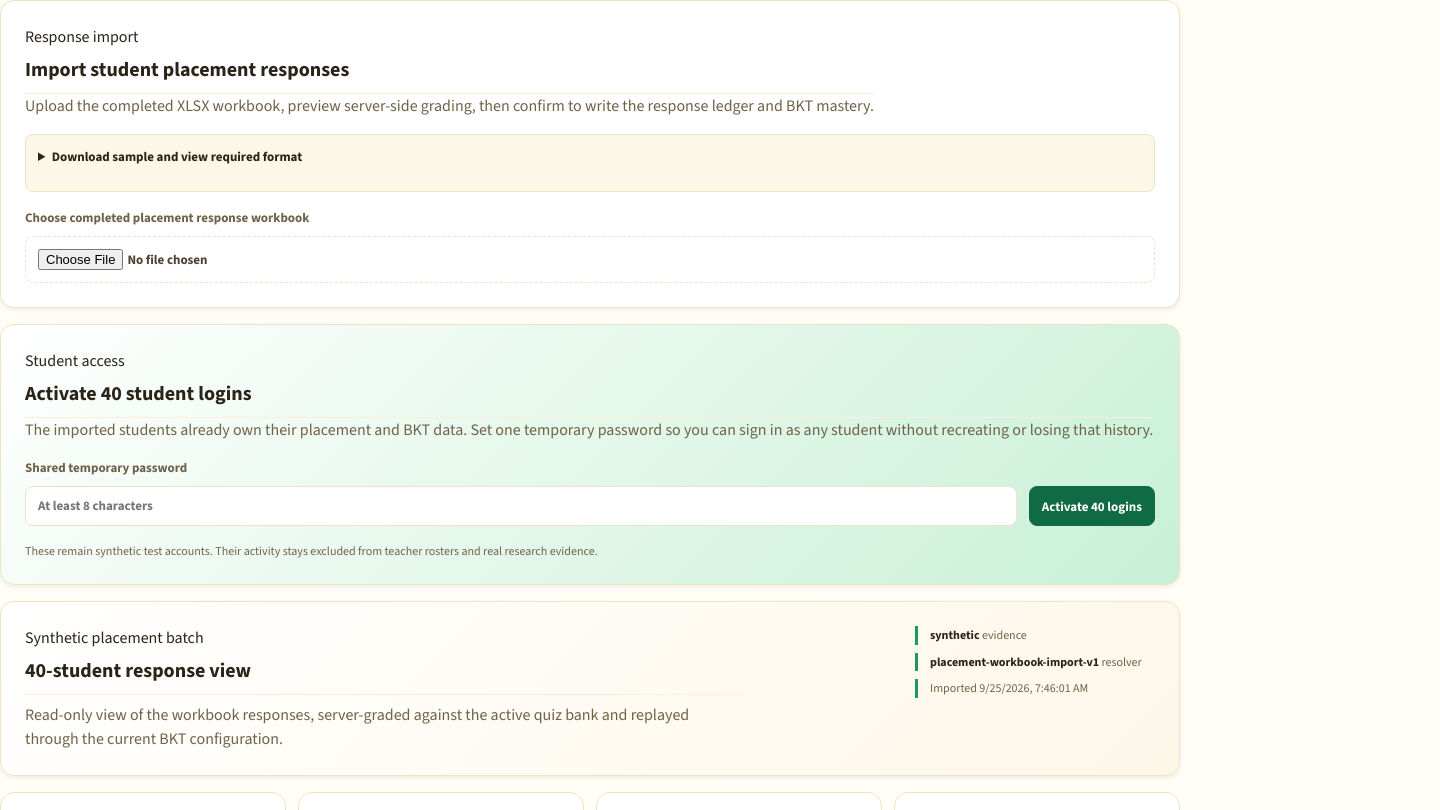
Scenario: AdminPlacementDataPage › activates login access for the imported student cohort
This screenshot has width=1440, height=810.
Expected: the heading "Activate 40 student logins" is shown, x1=25 y1=378 x2=1153 y2=418
Type "shared-login-2026" into the password field labelled "Shared temporary password". click: {"x": 521, "y": 506}
box: x1=25 y1=486 x2=1017 y2=526
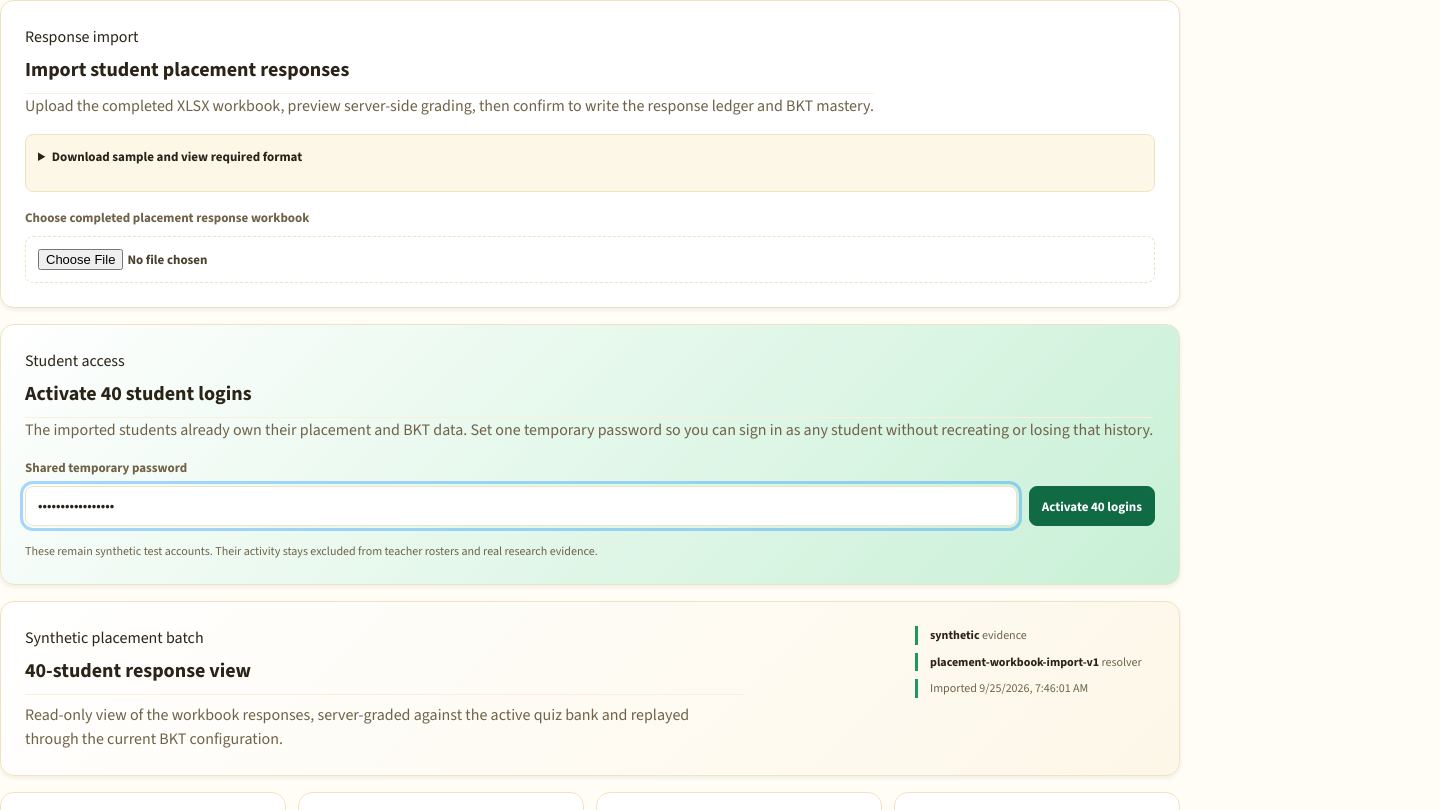
Click the button "Activate 40 logins". click: {"x": 1092, "y": 506}
box: x1=1029 y1=486 x2=1155 y2=526
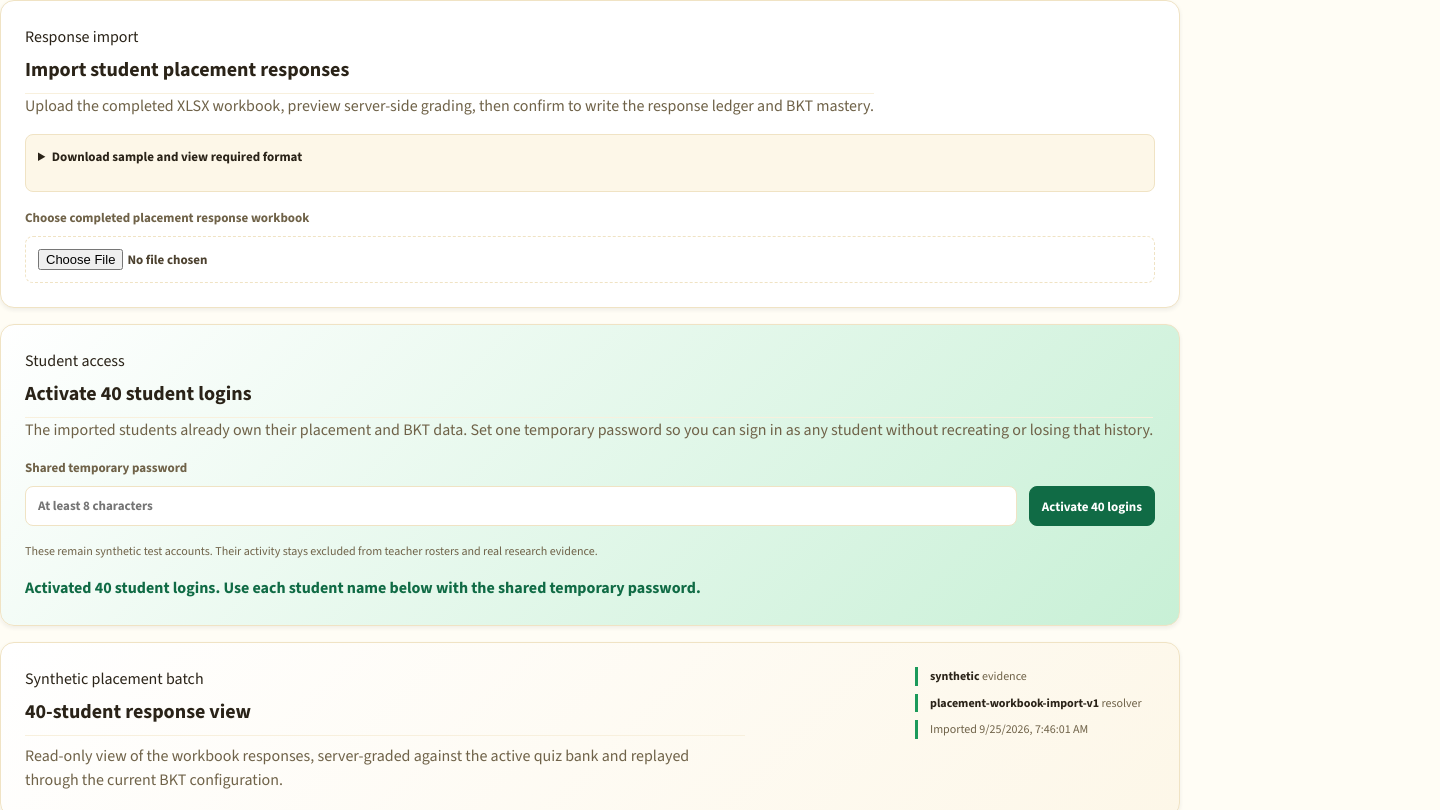
Result: the text "Activated 40 student logins. Use each student name below with the shared temporary password." is shown at x1=25 y1=577 x2=701 y2=598
